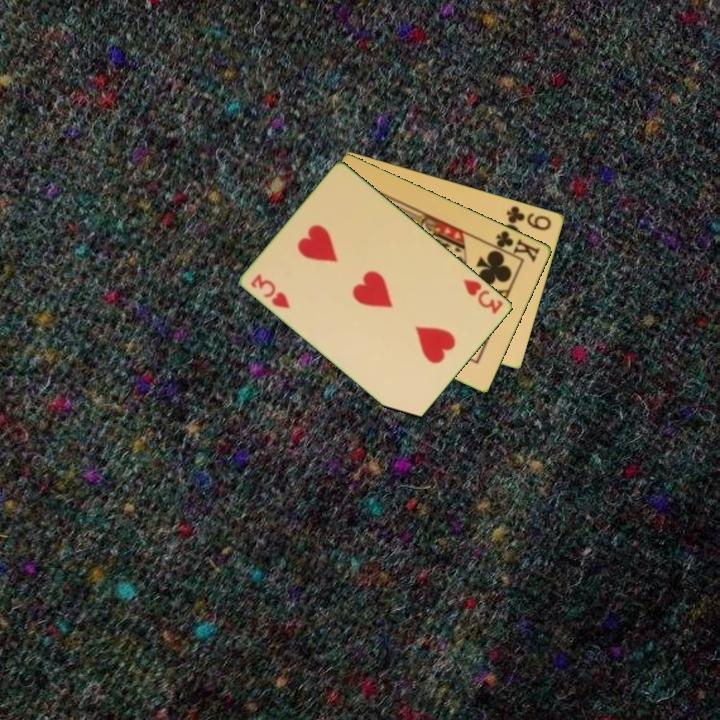3h: (460, 275, 507, 317), (247, 270, 293, 312)
9c: (503, 202, 554, 233)
Kc: (487, 227, 543, 265)
